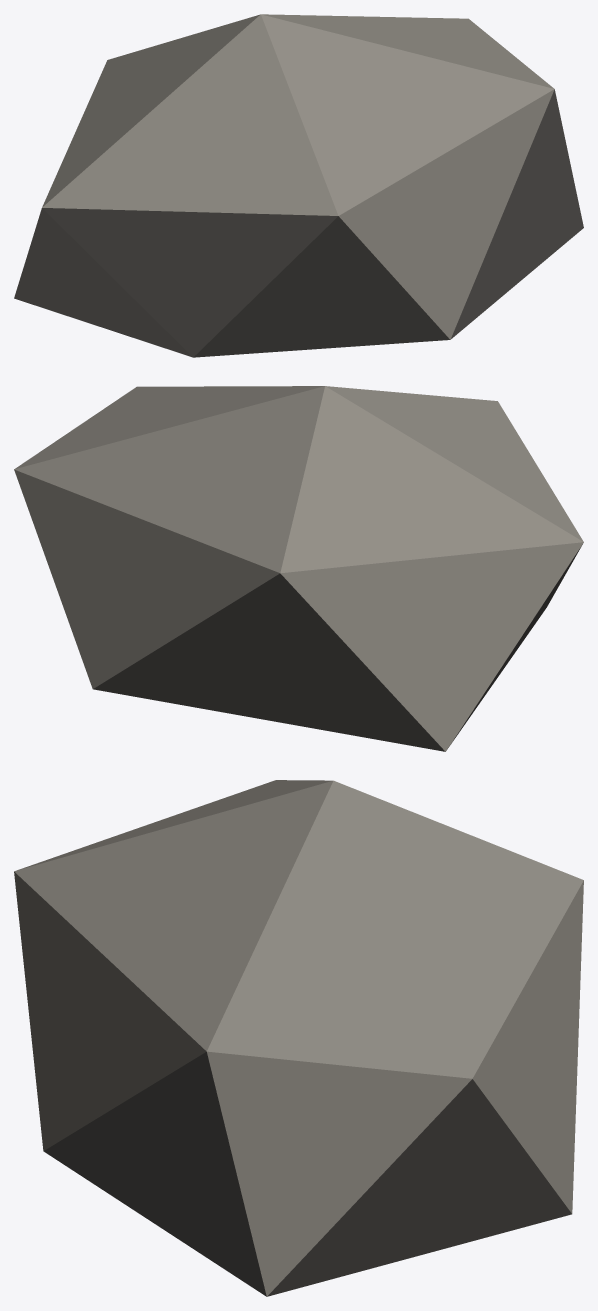
The model's file is SM_Rock_A.fbx.
The picture shows the model from 3 angles, top to bottom: view 1: azimuth 30°, elevation 25°; view 2: azimuth 150°, elevation 25°; view 3: azimuth 270°, elevation 25°; orthographic projection. The views are drawn at different scales.
Parts seen in each view (by area): view 1: SM_Rock_A; view 2: SM_Rock_A; view 3: SM_Rock_A.
Boxes of the visible parts, x1=… form: SM_Rock_A: x1=14, y1=14, x2=583, y2=357; SM_Rock_A: x1=14, y1=386, x2=583, y2=751; SM_Rock_A: x1=14, y1=780, x2=583, y2=1296.
Size of the model in its own units: 1.62 by 1.19 by 0.8389.
